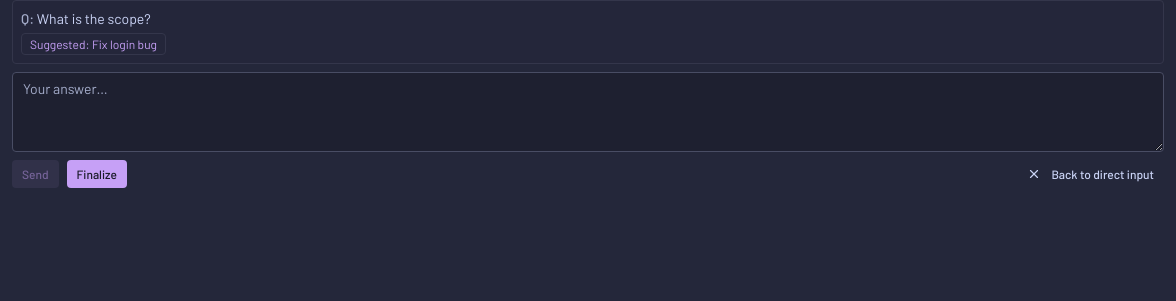
Test case: ComposerAssistPanel › resumes session when send fails with composer session not found
Expected: the text "Q: What is the scope?" is shown, [21,10,151,27]
Type "my answer" into the text box with placeholder "Your answer…" at (588, 112), box [12,72,1164,152]
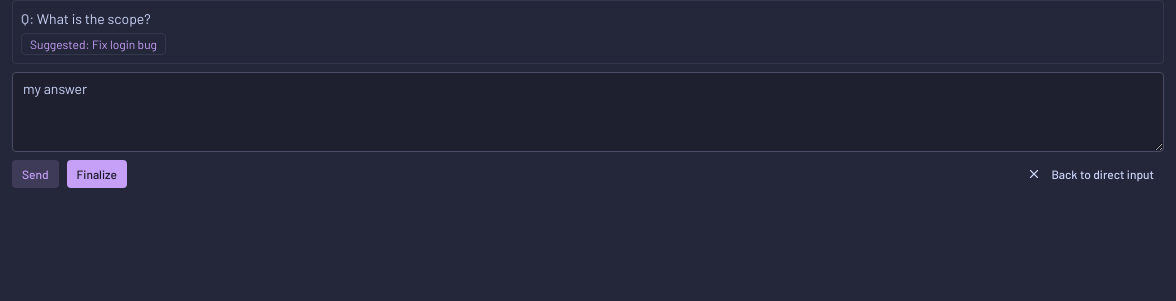
Click the button "Send" at (35, 174), box [12,160,59,188]
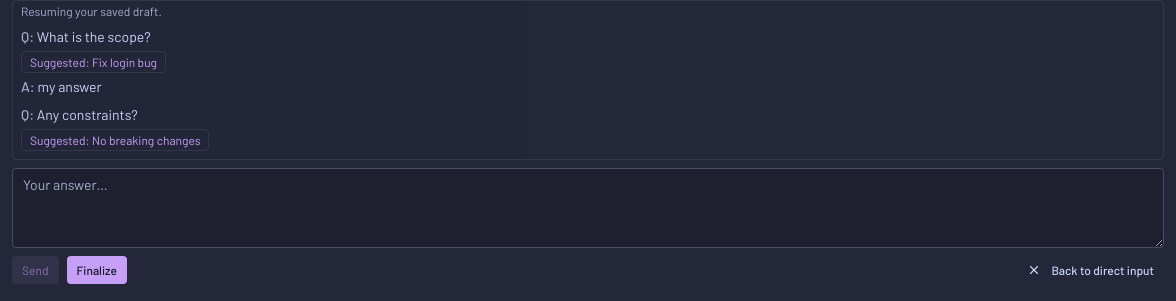
Expected: the text "Q: Any constraints?" is shown, [21,106,138,123]
